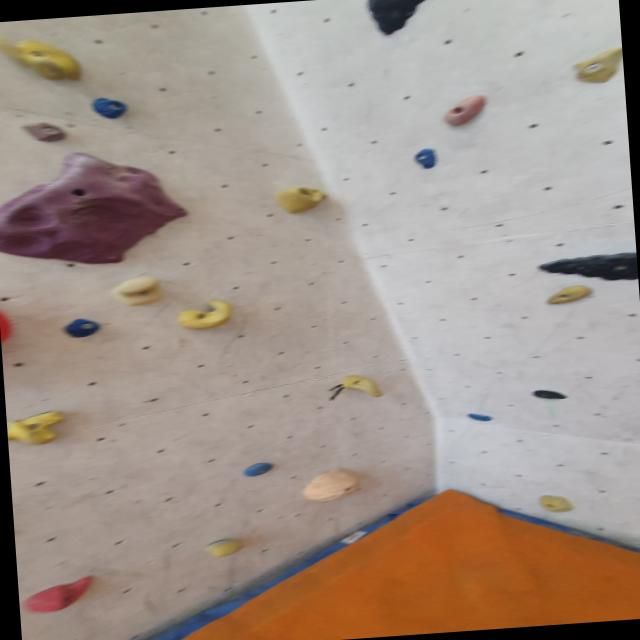Crimp: (0, 146, 193, 277), (17, 572, 102, 618), (564, 44, 624, 92), (19, 117, 70, 145), (85, 95, 132, 125), (58, 315, 105, 342), (526, 386, 574, 405), (408, 146, 442, 172), (240, 460, 276, 478), (462, 410, 493, 424)
Jug: (534, 242, 638, 290), (356, 0, 441, 39), (172, 295, 238, 334), (107, 272, 168, 310), (334, 372, 386, 401)
Pinch: (0, 28, 95, 90), (434, 91, 493, 130), (542, 282, 598, 310), (534, 491, 579, 518)
Pocket: (270, 181, 332, 217)
Sloper: (298, 465, 363, 507), (202, 533, 245, 559)
